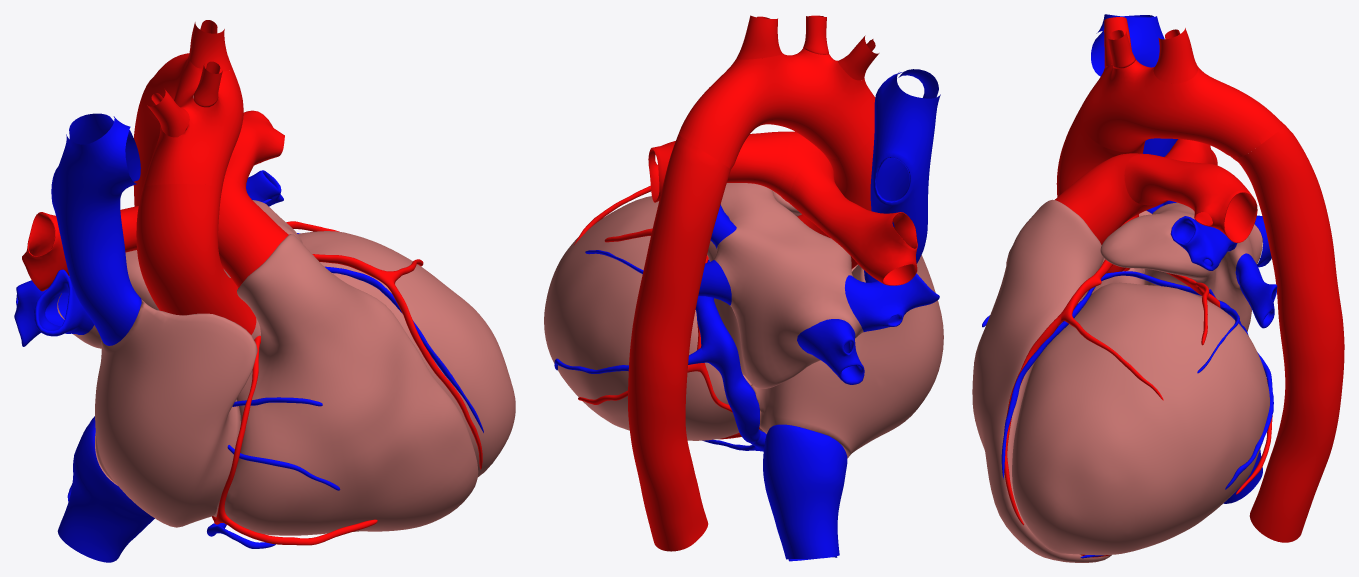
The model's file is cardiovision-heart.glb.
3 renders of one model, left to right at view 1: azimuth 30°, elevation 25°; view 2: azimuth 150°, elevation 25°; view 3: azimuth 270°, elevation 25°, orthographic. The views are drawn at different scales.
Visible parts, largest first — view 1: VH_F_right_ventricle, VH_F_right_cardiac_atrium, VH_F_superior_vena_cava, VH_F_left_ventricle, VH_F_ascending_aorta, VH_F_aortic_arch, VH_F_inferior_vena_cava_a, VH_F_pulmonary_trunk, VH_F_pulmonary_artery_R, VH_F_pulmonary_artery_L, VH_F_pulmonary_vein_R_sup, VH_F_left_anterior_descending_artery (+11 smaller); view 2: VH_F_descending_aorta_a, VH_F_left_cardiac_atrium, VH_F_left_ventricle, VH_F_right_cardiac_atrium, VH_F_aortic_arch, VH_F_inferior_vena_cava_a, VH_F_superior_vena_cava, VH_F_pulmonary_artery_R, VH_F_coronary_sinus, VH_F_pulmonary_artery_L, VH_F_pulmonary_vein_R_sup, VH_F_pulmonary_vein_R_inf (+8 smaller); view 3: VH_F_left_ventricle, VH_F_descending_aorta_a, VH_F_right_ventricle, VH_F_aortic_arch, VH_F_left_cardiac_atrium, VH_F_pulmonary_artery_L, VH_F_pulmonary_trunk, VH_F_superior_vena_cava, VH_F_ascending_aorta, VH_F_pulmonary_vein_L_sup, VH_F_left_subclavian_artery_a, VH_F_pulmonary_vein_L_inf (+7 smaller).
Boxes of the visible parts, x1=… form: VH_F_right_ventricle: x1=213, y1=234, x2=478, y2=535; VH_F_right_cardiac_atrium: x1=95, y1=299, x2=257, y2=527; VH_F_superior_vena_cava: x1=51, y1=113, x2=141, y2=345; VH_F_left_ventricle: x1=298, y1=231, x2=515, y2=476; VH_F_ascending_aorta: x1=136, y1=184, x2=256, y2=334; VH_F_aortic_arch: x1=143, y1=53, x2=243, y2=192; VH_F_inferior_vena_cava_a: x1=57, y1=416, x2=154, y2=562; VH_F_pulmonary_trunk: x1=218, y1=176, x2=288, y2=287; VH_F_pulmonary_artery_R: x1=22, y1=206, x2=138, y2=291; VH_F_pulmonary_artery_L: x1=225, y1=110, x2=284, y2=191; VH_F_pulmonary_vein_R_sup: x1=34, y1=269, x2=94, y2=336; VH_F_left_anterior_descending_artery: x1=312, y1=254, x2=482, y2=469; VH_F_descending_aorta_a: x1=627, y1=135, x2=730, y2=551; VH_F_left_cardiac_atrium: x1=707, y1=183, x2=863, y2=388; VH_F_left_ventricle: x1=544, y1=196, x2=751, y2=440; VH_F_right_cardiac_atrium: x1=751, y1=255, x2=943, y2=458; VH_F_aortic_arch: x1=678, y1=48, x2=875, y2=169; VH_F_inferior_vena_cava_a: x1=763, y1=424, x2=847, y2=561; VH_F_superior_vena_cava: x1=864, y1=69, x2=940, y2=282; VH_F_pulmonary_artery_R: x1=790, y1=160, x2=917, y2=285; VH_F_coronary_sinus: x1=695, y1=296, x2=766, y2=451; VH_F_pulmonary_artery_L: x1=648, y1=131, x2=789, y2=202; VH_F_pulmonary_vein_R_sup: x1=845, y1=273, x2=939, y2=331; VH_F_pulmonary_vein_R_inf: x1=797, y1=319, x2=864, y2=384; VH_F_left_ventricle: x1=1012, y1=282, x2=1269, y2=555; VH_F_descending_aorta_a: x1=1235, y1=125, x2=1344, y2=542; VH_F_right_ventricle: x1=972, y1=199, x2=1111, y2=562; VH_F_aortic_arch: x1=1080, y1=59, x2=1285, y2=159; VH_F_left_cardiac_atrium: x1=1100, y1=202, x2=1262, y2=331; VH_F_pulmonary_artery_L: x1=1124, y1=154, x2=1257, y2=242; VH_F_pulmonary_trunk: x1=1055, y1=153, x2=1167, y2=244; VH_F_superior_vena_cava: x1=1091, y1=14, x2=1177, y2=213; VH_F_ascending_aorta: x1=1056, y1=106, x2=1145, y2=271; VH_F_pulmonary_vein_L_sup: x1=1170, y1=216, x2=1237, y2=270; VH_F_left_subclavian_artery_a: x1=1153, y1=28, x2=1197, y2=83; VH_F_pulmonary_vein_L_inf: x1=1236, y1=253, x2=1277, y2=328.
Bounding box in the file's own units: 0.1576 × 0.19 × 0.1268.
